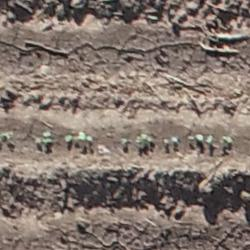cotton: (42, 133, 51, 142), (141, 133, 150, 142), (137, 136, 143, 147), (196, 134, 203, 142), (80, 132, 86, 141), (206, 136, 213, 143), (65, 134, 71, 141), (224, 137, 230, 143), (173, 136, 178, 143), (164, 139, 168, 145), (88, 137, 92, 142)
